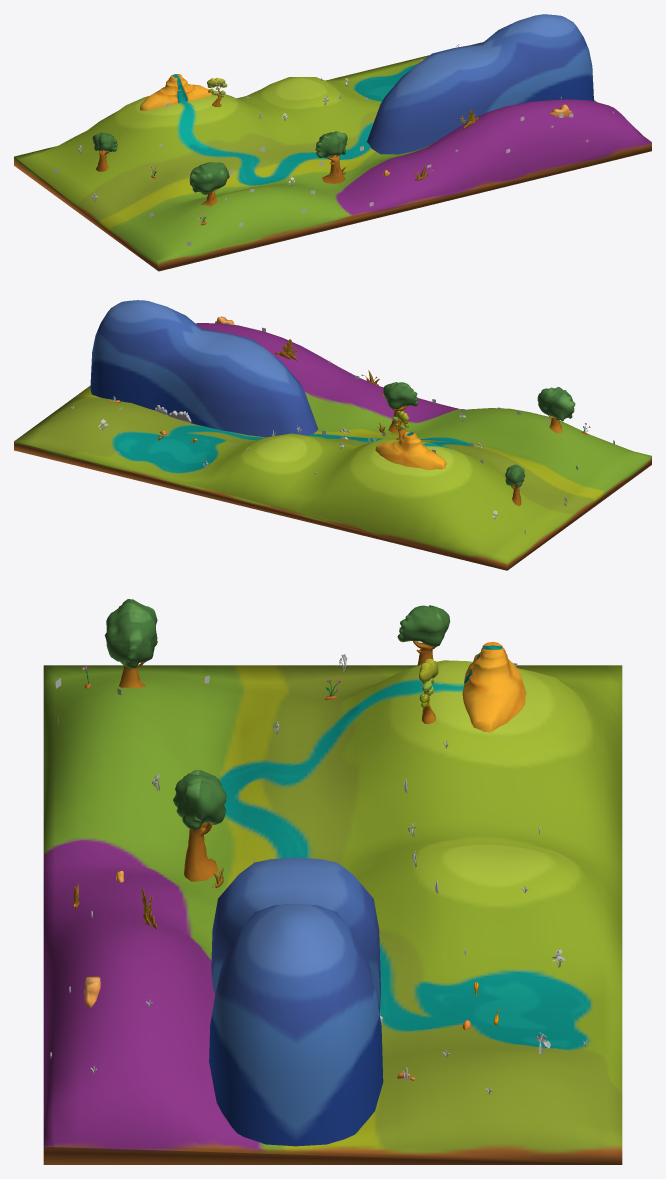
The model's file is MDL_Pag 5 - 6.fbx.
3 renders of one model, top to bottom at view 1: azimuth 30°, elevation 25°; view 2: azimuth 150°, elevation 25°; view 3: azimuth 270°, elevation 25°, orthographic. The views are drawn at different scales.
Visible parts, largest first — view 1: MDL_Piso_base_doble pag, MDL_Arbol_2, MDL_Arbol_3, MDL_Arbol_1, MDL_Objetos_Atlas_TP; view 2: MDL_Piso_base_doble pag, MDL_Arbol_2, MDL_Arbol_3, MDL_Arbol_1; view 3: MDL_Piso_base_doble pag, MDL_Arbol_3, MDL_Arbol_2, MDL_Arbol_1, MDL_Arbol_fruto.
Part boxes in pixels (x1,y1,x2,y2): MDL_Piso_base_doble pag: (14, 14, 651, 271); MDL_Arbol_2: (189, 162, 229, 206); MDL_Arbol_3: (315, 131, 347, 183); MDL_Arbol_1: (92, 132, 117, 171); MDL_Objetos_Atlas_TP: (54, 80, 573, 245); MDL_Piso_base_doble pag: (14, 300, 651, 570); MDL_Arbol_2: (537, 387, 575, 433); MDL_Arbol_3: (383, 382, 418, 433); MDL_Arbol_1: (505, 464, 525, 505); MDL_Piso_base_doble pag: (43, 642, 622, 1164); MDL_Arbol_3: (173, 770, 226, 881); MDL_Arbol_2: (104, 599, 157, 688); MDL_Arbol_1: (397, 605, 450, 665); MDL_Arbol_fruto: (419, 658, 438, 723).
Size of the model in its own units: 65.66 by 12.68 by 33.36.
